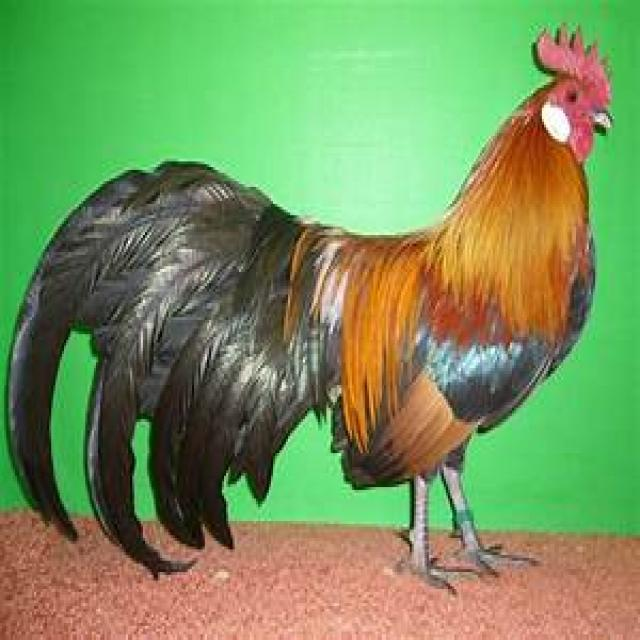chicken: (17, 24, 620, 595)
